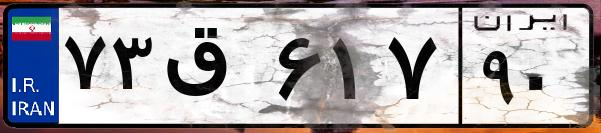0: (525, 38, 570, 115)
1: (330, 28, 385, 110)
3: (110, 28, 158, 98)
6: (270, 28, 330, 110)
7: (385, 28, 445, 110), (57, 26, 110, 100)
9: (475, 38, 525, 113)
ق: (158, 20, 270, 120)
